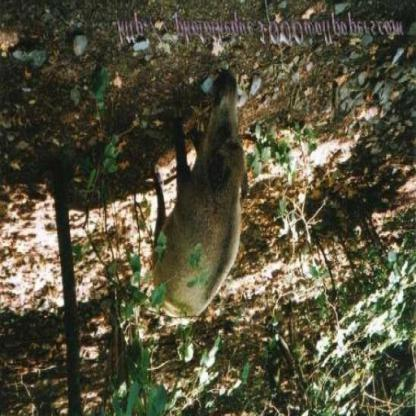boar: (117, 63, 305, 340)
